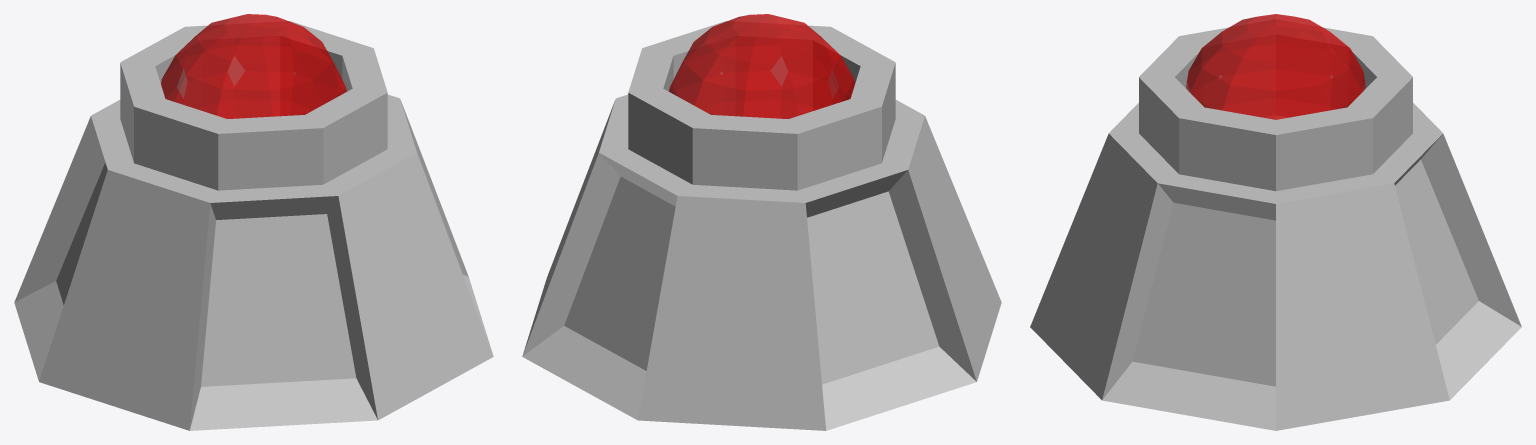
File: GAME3040 - Laser Emitter.fbx
3 renders of one model, left to right at view 1: azimuth 30°, elevation 25°; view 2: azimuth 150°, elevation 25°; view 3: azimuth 270°, elevation 25°, orthographic.
Visible parts, largest first — view 1: Laser_Node_Base, Laser_Node_Emitter; view 2: Laser_Node_Base, Laser_Node_Emitter; view 3: Laser_Node_Base, Laser_Node_Emitter.
Boxes of the visible parts, x1,y1,x2,y2 form: Laser_Node_Base: [14, 21, 493, 430]; Laser_Node_Emitter: [161, 14, 346, 118]; Laser_Node_Base: [522, 21, 1001, 430]; Laser_Node_Emitter: [669, 14, 854, 118]; Laser_Node_Base: [1030, 20, 1521, 430]; Laser_Node_Emitter: [1186, 14, 1365, 119].
Bounding box in the file's own units: 2 × 1.37 × 2.
